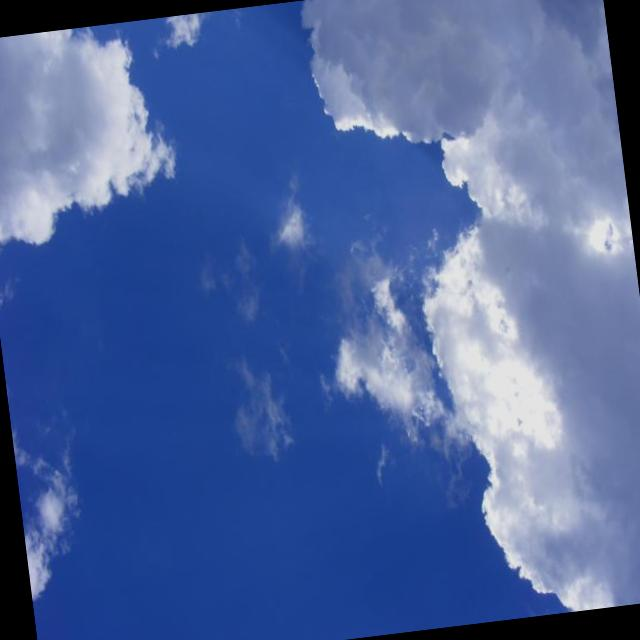cumulus: (299, 0, 640, 635), (0, 28, 140, 227)
